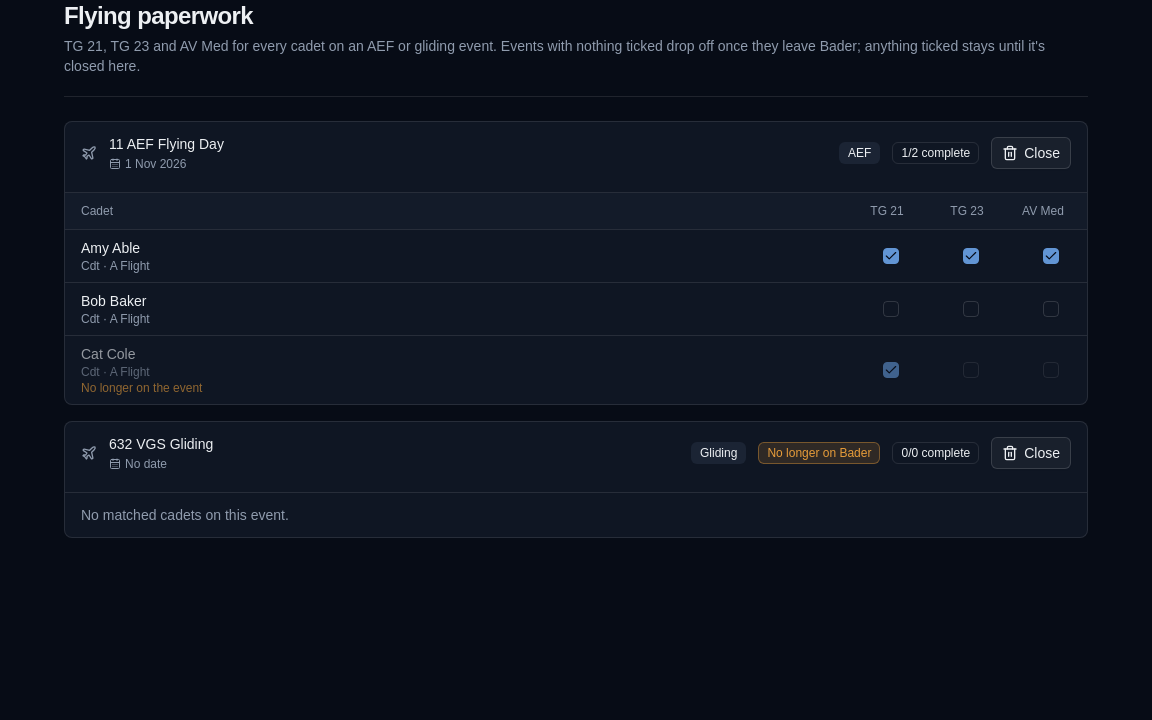
Scenario: Flying paperwork page › closing asks first, then deletes the event and drops its card
This screenshot has width=1152, height=720.
Click the button with aria-label "Close 11 AEF Flying Day". click: (1031, 153)
box: [991, 137, 1071, 169]
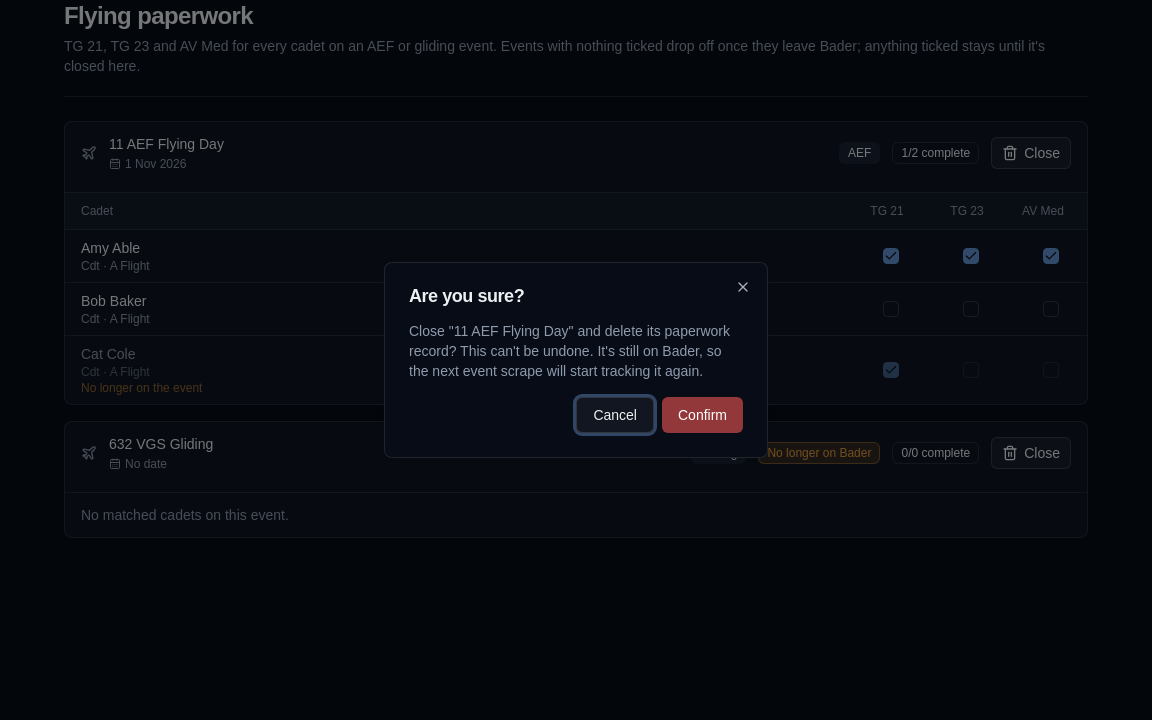
Now the text "next event scrape will start tracking it again" is shown, box [409, 323, 730, 379]
Click the button "Confirm". click: (702, 415)
box: [662, 397, 743, 433]
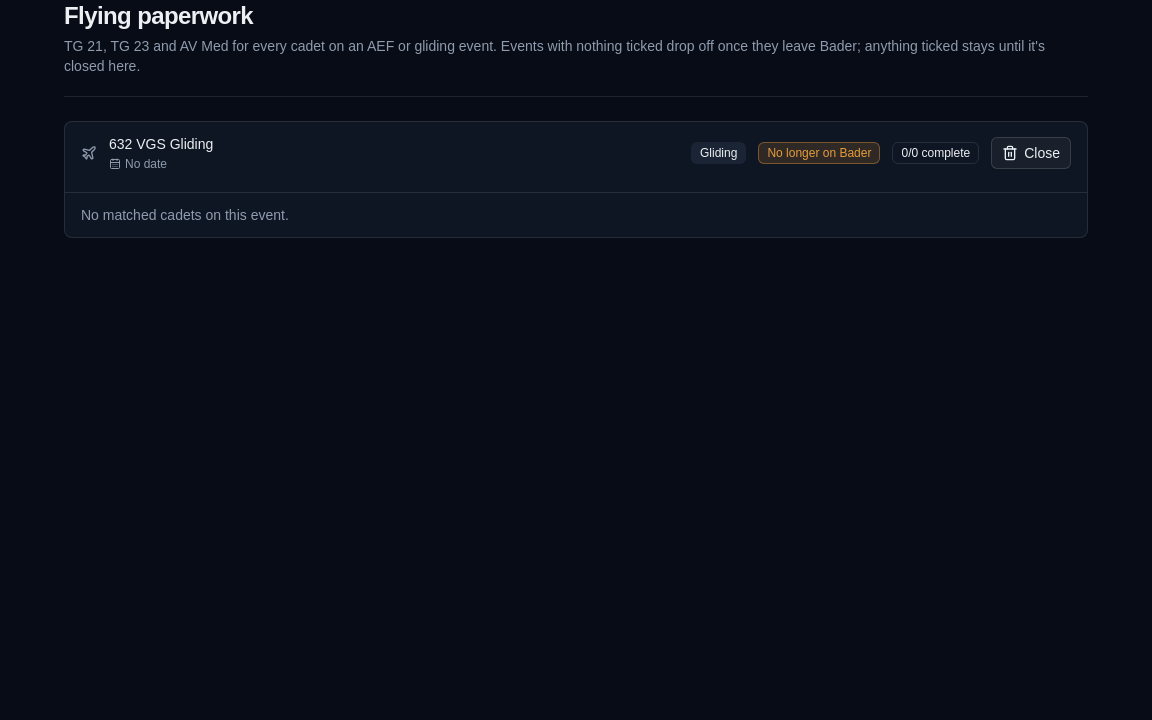
Now the text "11 AEF Flying Day" is gone
